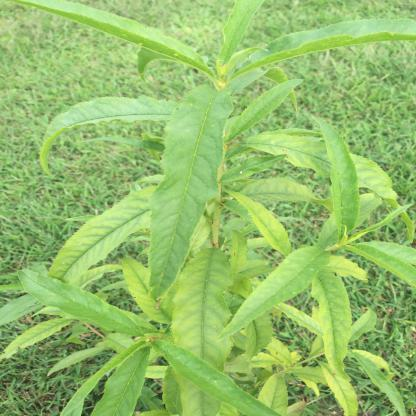Peach leaf: (138, 87, 235, 304), (13, 2, 220, 86), (204, 244, 330, 352), (44, 180, 156, 299), (26, 93, 182, 176), (228, 14, 416, 74), (177, 234, 236, 416), (152, 340, 293, 416), (18, 266, 146, 340), (315, 113, 357, 246), (308, 270, 356, 372)
